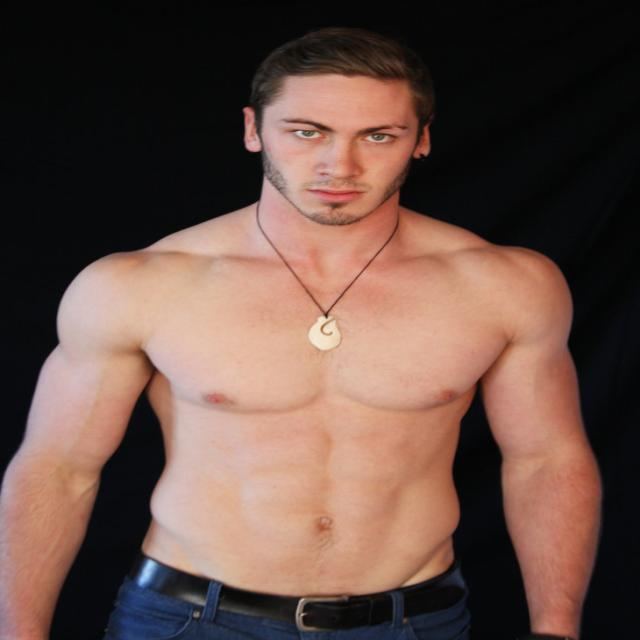human: (2, 34, 614, 640)
